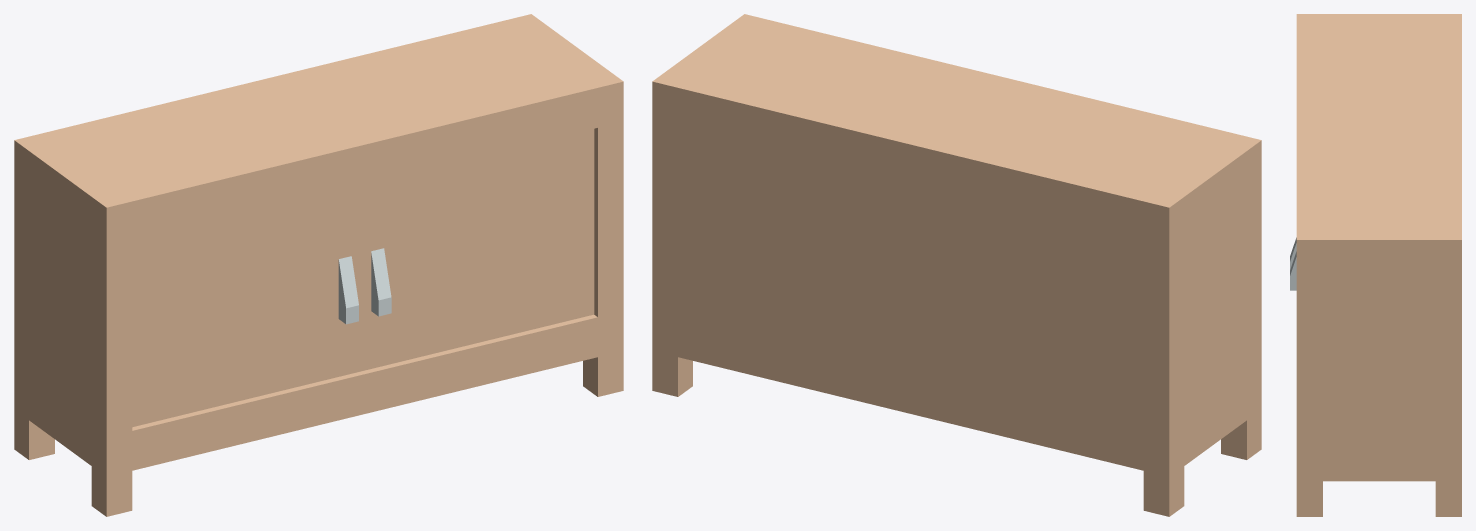
Rendered from sideboard.glb.
3 renders of one model, left to right at view 1: azimuth 30°, elevation 25°; view 2: azimuth 150°, elevation 25°; view 3: azimuth 270°, elevation 25°, orthographic. The views are drawn at different scales.
Parts seen in each view (by area): view 1: cabinetTelevisionDoors(Clone), doorRight_247ca0, doorLeft_4a75bd, doorLeft_6cba09, doorRight_51e832; view 2: cabinetTelevisionDoors(Clone); view 3: cabinetTelevisionDoors(Clone), doorRight_51e832.
Part boxes in pixels (left/top/right/bottom): cabinetTelevisionDoors(Clone): left=14, top=14, right=623, bottom=516; doorRight_247ca0: left=361, top=128, right=594, bottom=371; doorLeft_4a75bd: left=132, top=185, right=361, bottom=427; doorLeft_6cba09: left=338, top=256, right=358, bottom=324; doorRight_51e832: left=371, top=248, right=391, bottom=316; cabinetTelevisionDoors(Clone): left=652, top=14, right=1261, bottom=516; cabinetTelevisionDoors(Clone): left=1296, top=14, right=1461, bottom=516; doorRight_51e832: left=1290, top=251, right=1296, bottom=290.
Bounding box in the file's own units: 1.4 × 0.8 × 0.45.
